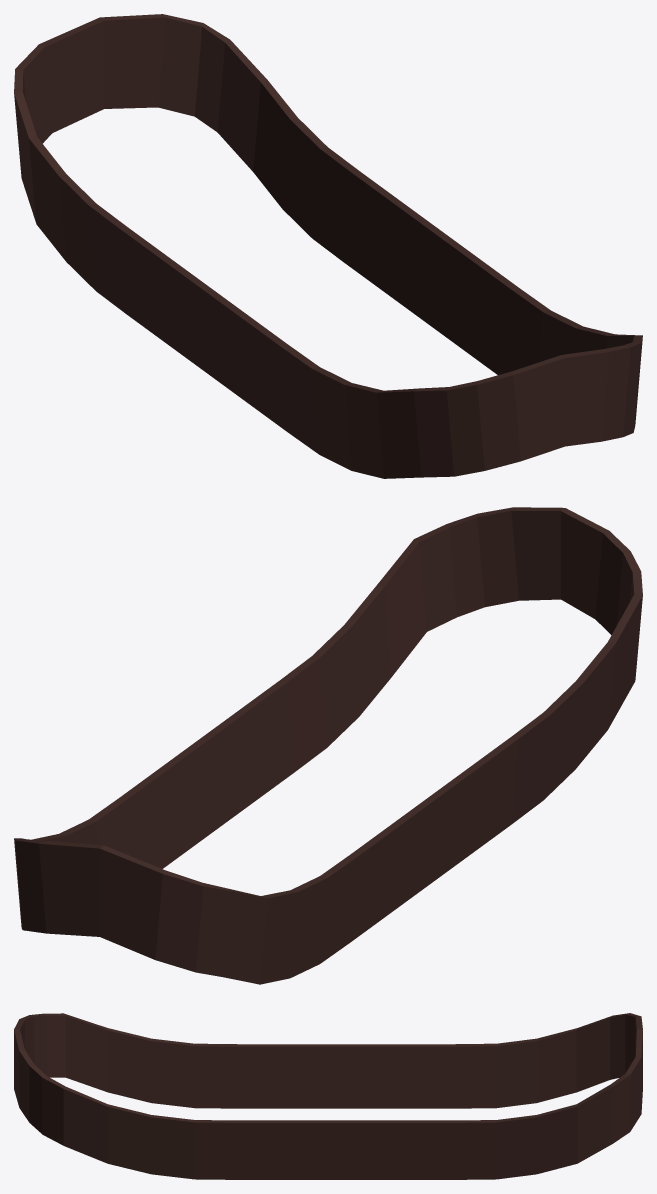
File: Border.fbx
3 views of the same model, one above another, from view 1: azimuth 30°, elevation 25°; view 2: azimuth 150°, elevation 25°; view 3: azimuth 270°, elevation 25° (orthographic). The views are drawn at different scales.
Visible parts, largest first — view 1: Cube.001; view 2: Cube.001; view 3: Cube.001.
Boxes of the visible parts, <box> form: Cube.001: <box>14,14,642,478</box>; Cube.001: <box>14,507,642,984</box>; Cube.001: <box>14,1013,642,1179</box>.
Size of the model in its own units: 229 by 154 by 773.
